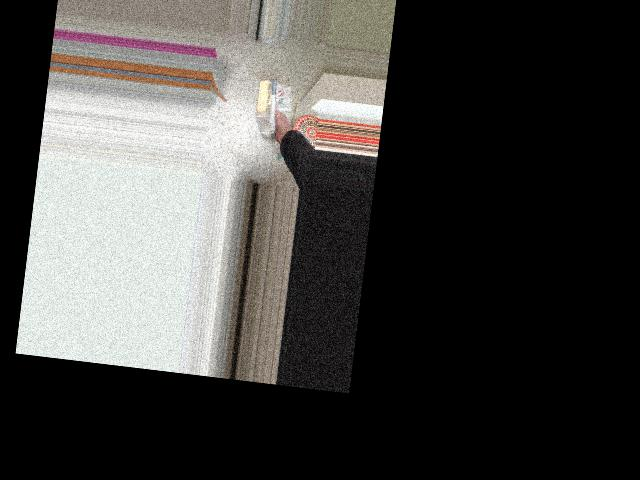cheese: (245, 75, 294, 139)
